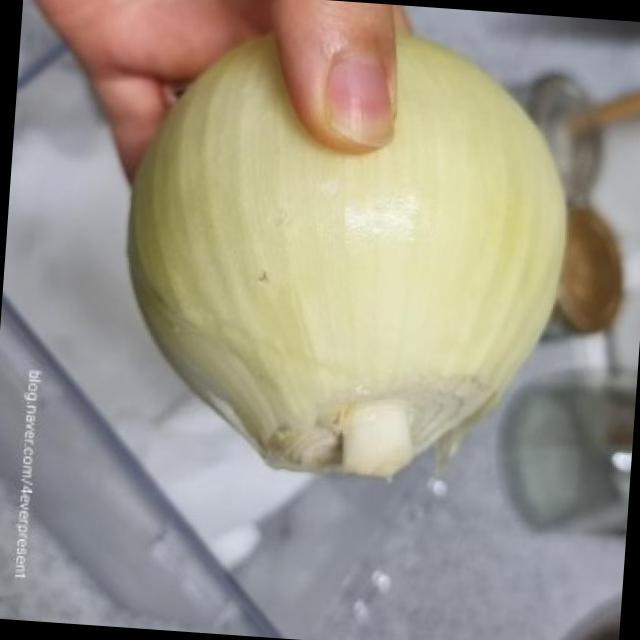Onion: (124, 37, 565, 471)
